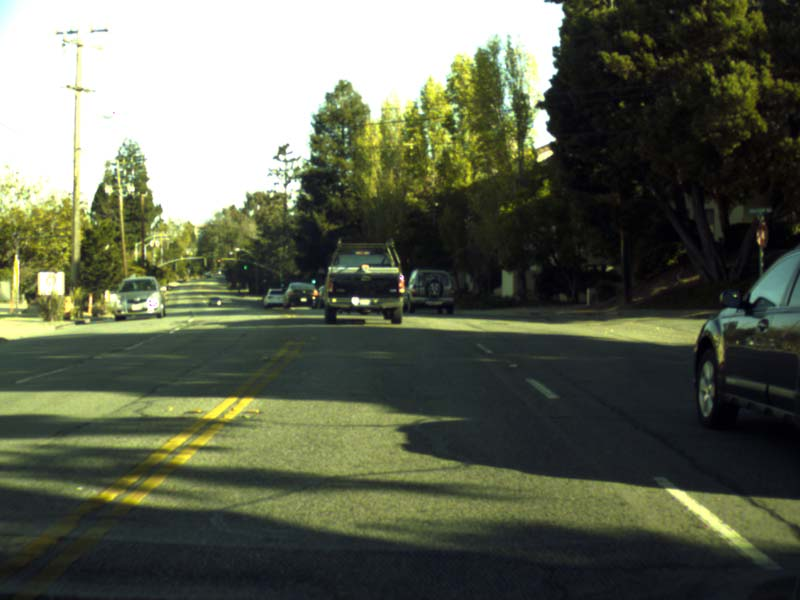Green: (310, 278, 317, 285), (242, 265, 247, 269)
Red: (216, 258, 220, 266)
